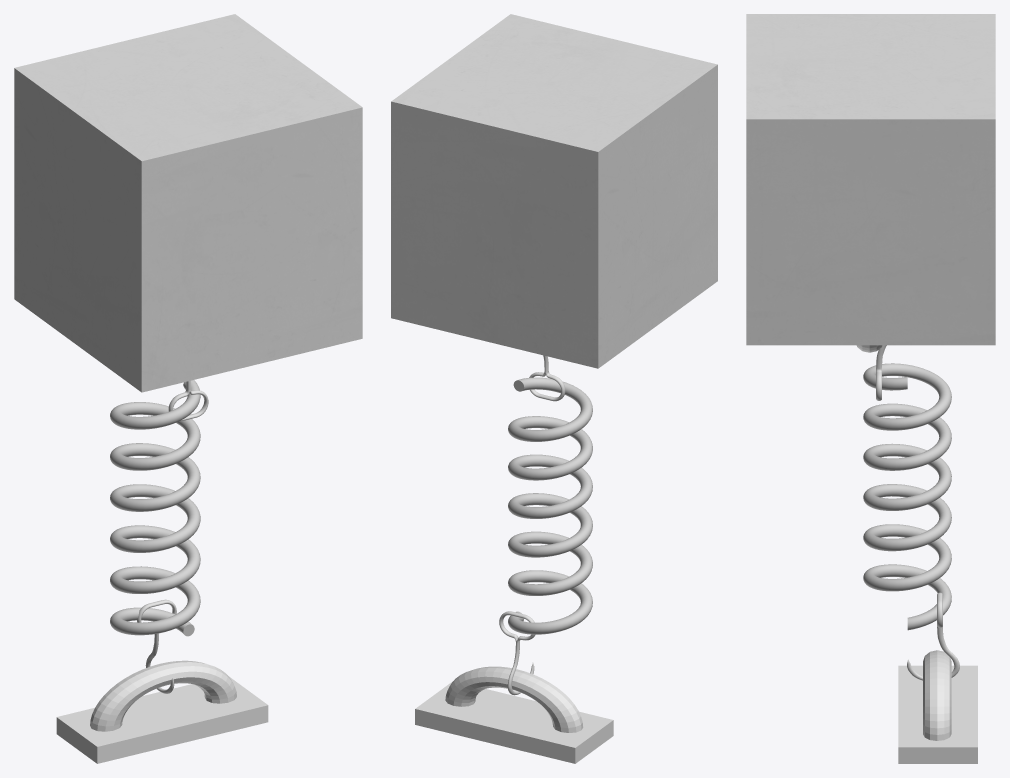
File: springboxsetHookeslab.fbx
3 views of the same model, side by side, from view 1: azimuth 30°, elevation 25°; view 2: azimuth 150°, elevation 25°; view 3: azimuth 270°, elevation 25° (orthographic). The views are drawn at different scales.
Parts seen in each view (by area): view 1: Cube.002, Cube, Body1; view 2: Cube.002, Cube, Body1; view 3: Cube.002, Body1, Cube.
Part boxes in pixels (box(x1,y1,x2,y2)): Cube.002: box(14, 14, 362, 421); Cube: box(56, 599, 268, 763); Body1: box(110, 380, 200, 636); Cube.002: box(391, 14, 717, 401); Cube: box(415, 611, 613, 763); Body1: box(508, 377, 592, 634); Cube.002: box(746, 14, 995, 400); Body1: box(863, 363, 951, 630); Cube: box(898, 592, 977, 763).
Size of the model in its own units: 100 by 289 by 100.
